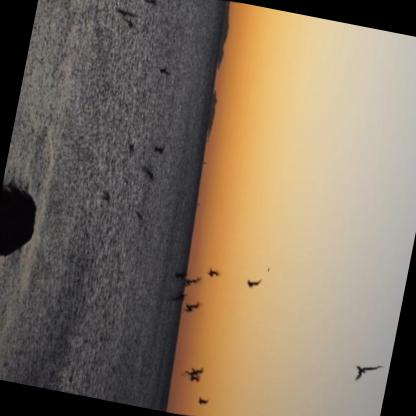bird: (350, 361, 385, 388), (177, 364, 207, 382), (145, 139, 171, 159), (137, 162, 160, 184), (109, 6, 140, 22), (179, 298, 204, 317), (176, 274, 202, 289), (166, 290, 191, 304), (179, 371, 201, 386), (118, 16, 141, 30), (243, 276, 263, 291), (192, 393, 212, 408), (203, 265, 221, 281), (172, 268, 189, 282), (154, 66, 170, 78), (138, 0, 157, 9)
